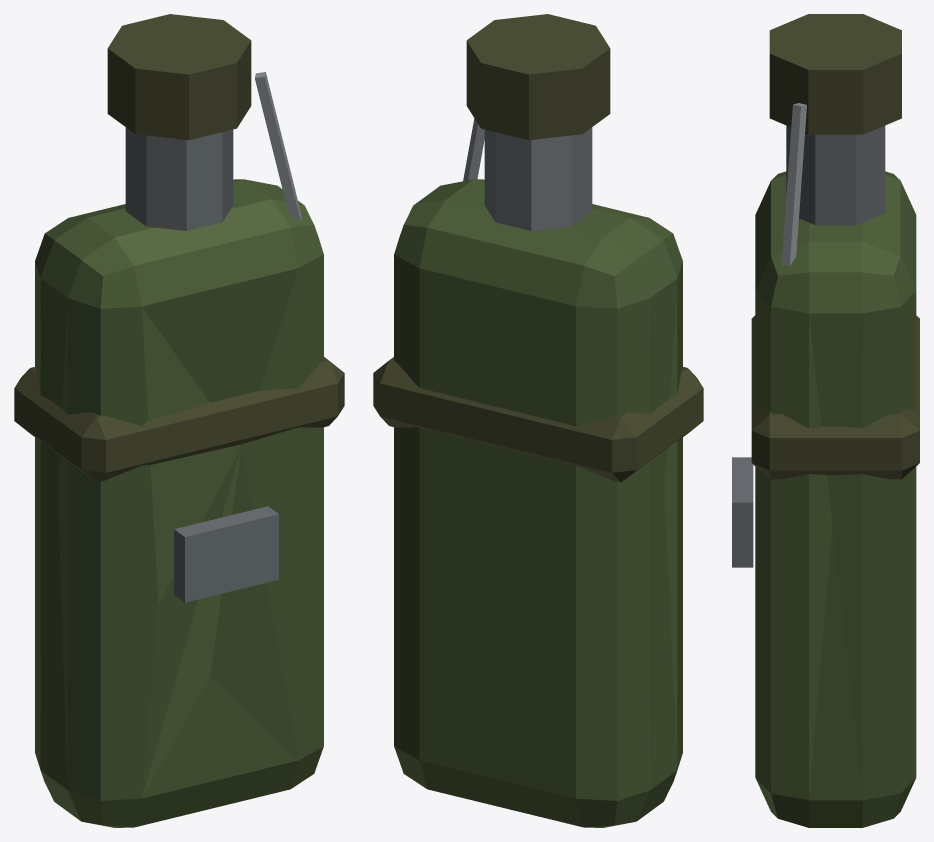
Rendered from bottle_water_flyaga_idle.glb.
3 views of the same model, side by side, from view 1: azimuth 30°, elevation 25°; view 2: azimuth 150°, elevation 25°; view 3: azimuth 270°, elevation 25° (orthographic).
Parts seen in each view (by area): view 1: bottle_water_flyaga_idle; view 2: bottle_water_flyaga_idle; view 3: bottle_water_flyaga_idle.
Boxes of the visible parts, x1,y1,x2,y2 form: bottle_water_flyaga_idle: [14, 14, 344, 827]; bottle_water_flyaga_idle: [373, 14, 703, 827]; bottle_water_flyaga_idle: [732, 14, 919, 827].
Size of the model in its own units: 0.084 by 0.23 by 0.0525.
Materials: 1 (1 with a texture image).
